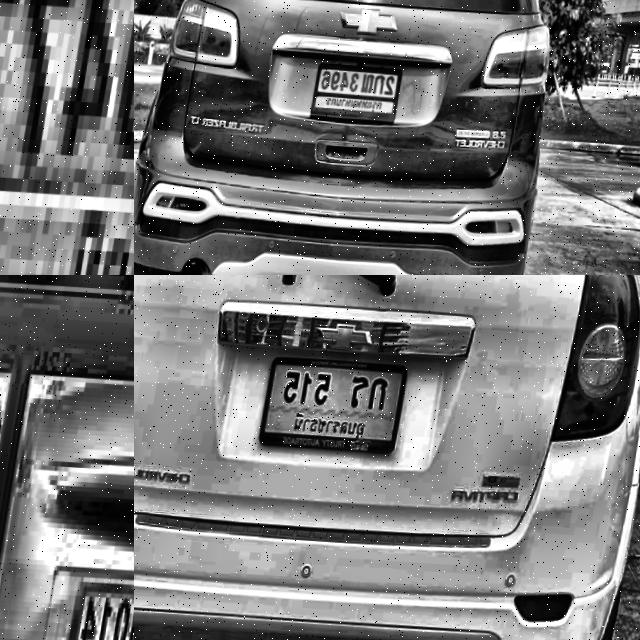license-plate: (0, 0, 134, 275), (262, 352, 416, 456), (313, 56, 413, 128), (61, 565, 134, 640)
